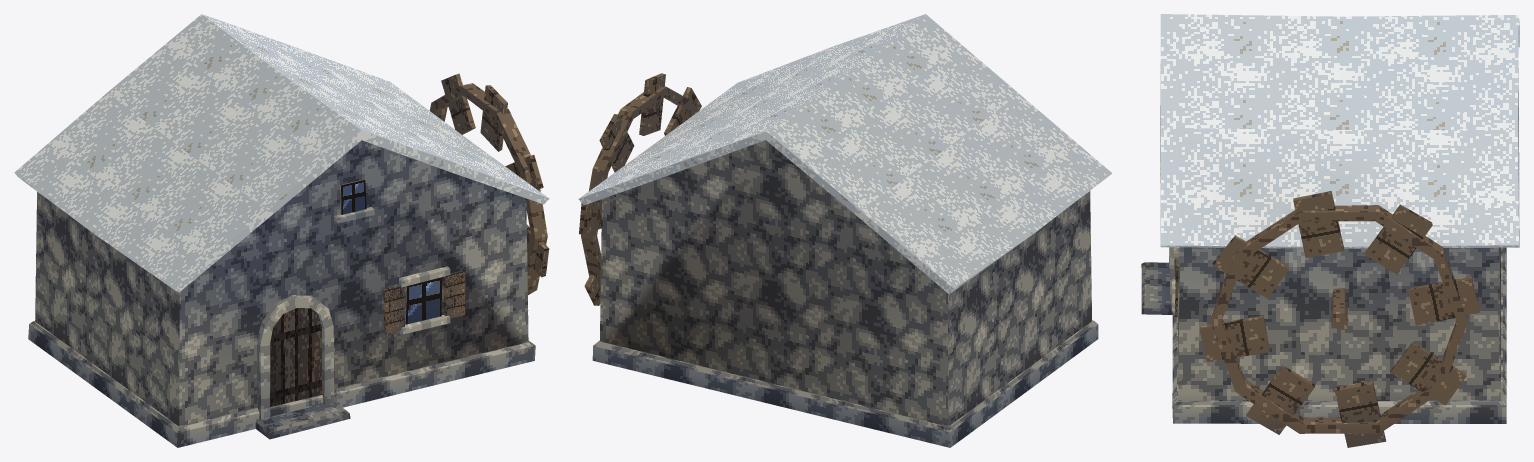
File: vlg.mill__watermill.glb
3 views of the same model, side by side, from view 1: azimuth 30°, elevation 25°; view 2: azimuth 150°, elevation 25°; view 3: azimuth 270°, elevation 25° (orthographic). The views are drawn at different scales.
Visible parts, largest first — view 1: kit_walls, kit_roof, kit_fittings, kit_stonework, kit_frame; view 2: kit_walls, kit_roof, kit_stonework, kit_fittings, kit_frame; view 3: kit_roof, kit_walls, kit_fittings, kit_frame, kit_stonework.
Boxes of the visible parts, bbox=[...] form: kit_walls: bbox=[35, 140, 528, 426]; kit_roof: bbox=[14, 14, 549, 292]; kit_fittings: bbox=[255, 73, 549, 439]; kit_stonework: bbox=[28, 321, 535, 447]; kit_frame: bbox=[429, 83, 547, 294]; kit_walls: bbox=[600, 140, 1091, 426]; kit_roof: bbox=[578, 14, 1112, 294]; kit_stonework: bbox=[592, 320, 1098, 447]; kit_fittings: bbox=[579, 73, 701, 305]; kit_frame: bbox=[581, 86, 697, 290]; kit_roof: bbox=[1160, 14, 1519, 248]; kit_walls: bbox=[1178, 247, 1500, 401]; kit_fittings: bbox=[1141, 191, 1480, 447]; kit_frame: bbox=[1211, 205, 1467, 433]; kit_stonework: bbox=[1172, 247, 1506, 423].
Bounding box in the file's own units: 8.17 × 5.5 × 5.85.
8 materials, 8 textured.
